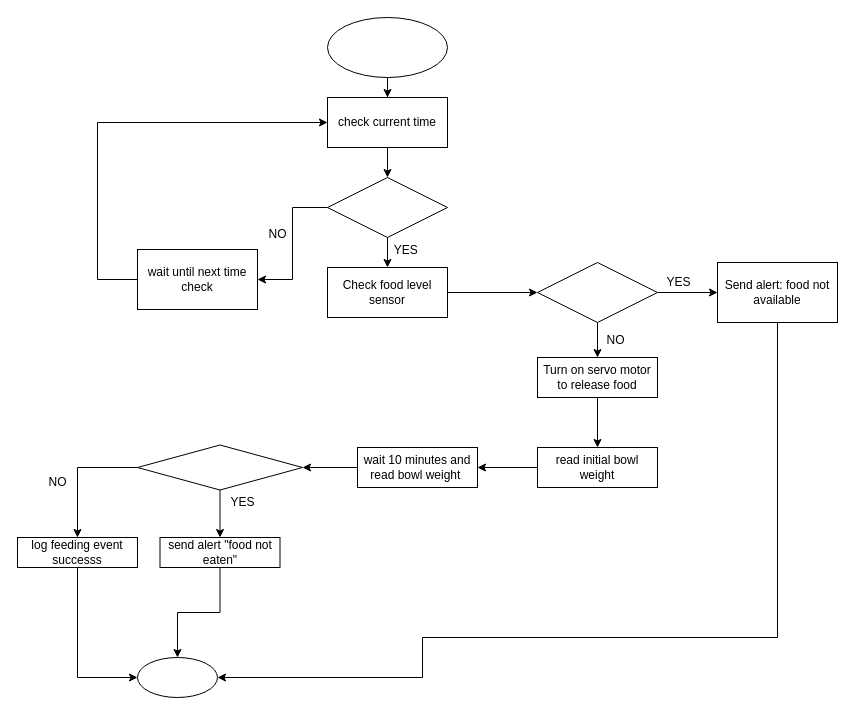
Image size: 855x715. Some labels were removed from this diagram. Here are the shapes that lost their labels. From the top down, the centre of each, then its label:
At point 387,47: "start".
At point 387,207: "Is time = 8AM OR 6AM?".
At point 597,292: "Is food level = Empty?".
At point 219,467: "finalweight= initial weight".
At point 177,677: "END".
